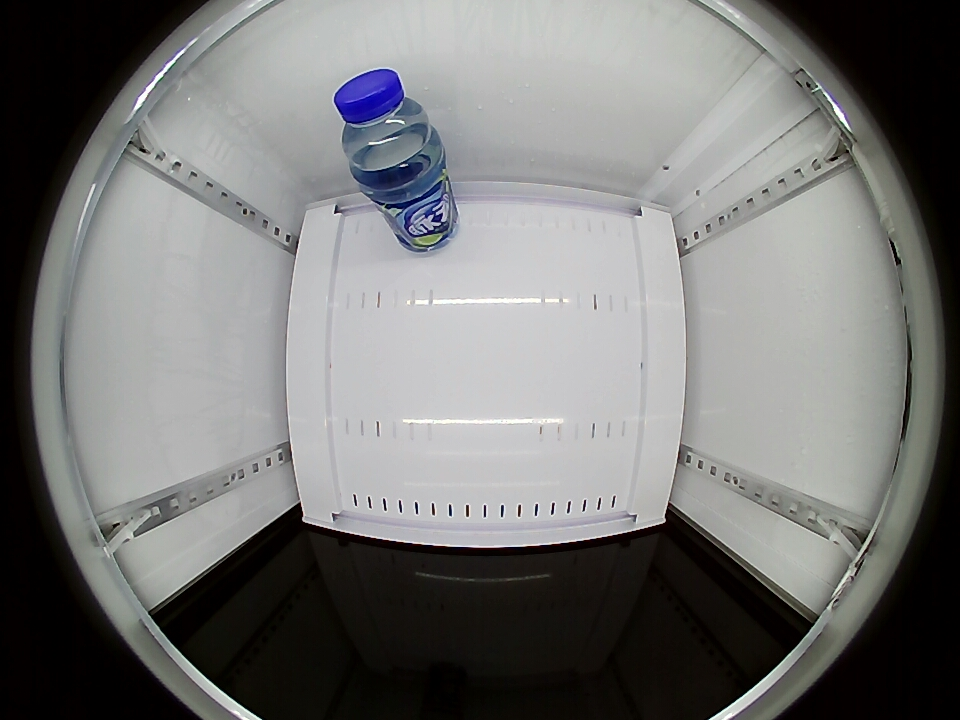maidong: (334, 67, 437, 177)
